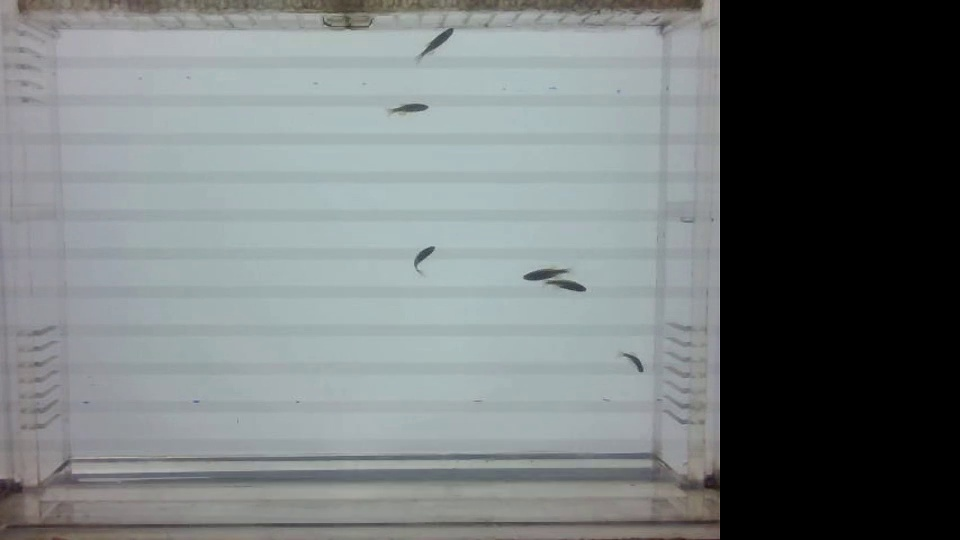fish: (404, 24, 460, 64), (400, 236, 449, 277), (372, 90, 437, 118), (520, 258, 576, 285), (613, 340, 648, 380), (540, 277, 590, 297)
